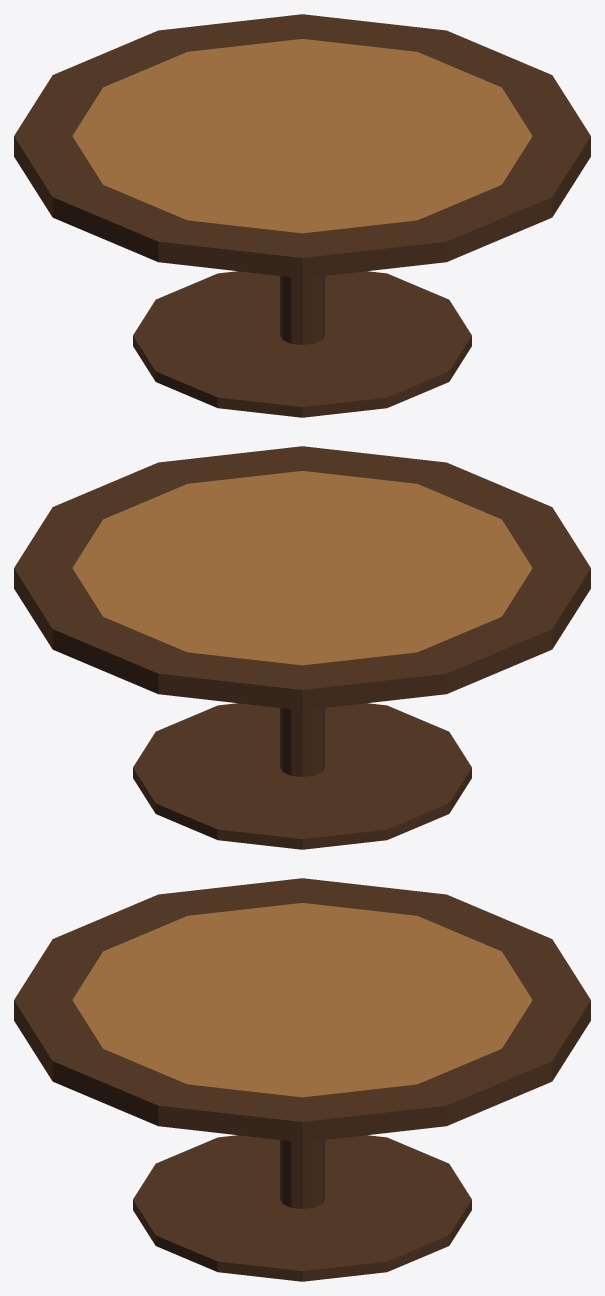
Rendered from Round Table.fbx.
3 views of the same model, one above another, from view 1: azimuth 30°, elevation 25°; view 2: azimuth 150°, elevation 25°; view 3: azimuth 270°, elevation 25° (orthographic).
Parts seen in each view (by area): view 1: Round Table; view 2: Round Table; view 3: Round Table.
Boxes of the visible parts, bbox=[...] form: Round Table: bbox=[14, 14, 590, 417]; Round Table: bbox=[14, 446, 590, 849]; Round Table: bbox=[14, 878, 590, 1281].
Bounding box in the file's own units: 2.14 × 0.8599 × 2.14.
